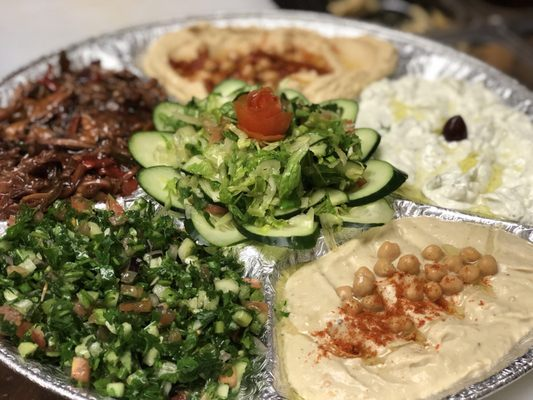curry: (10, 4, 533, 398)
